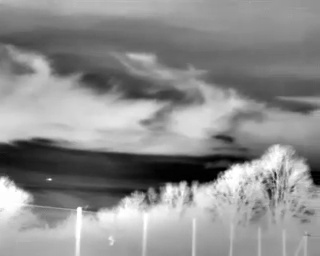HELICOPTER: (44, 174, 55, 184)
